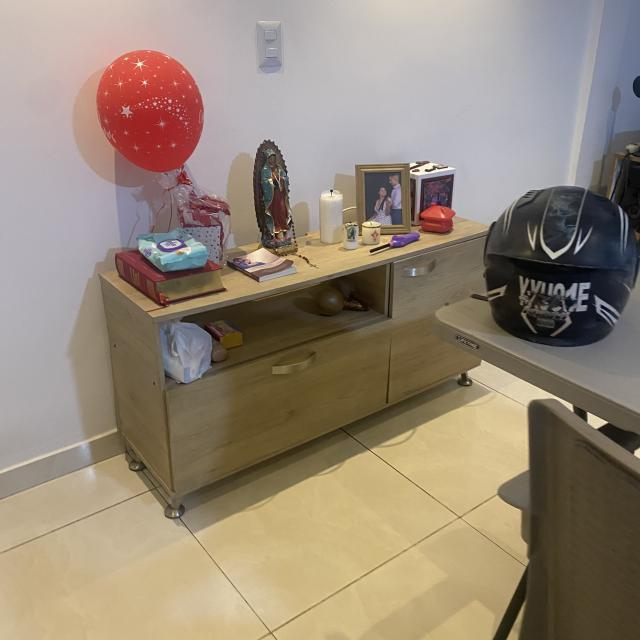obstacle: (79, 128, 496, 534)
